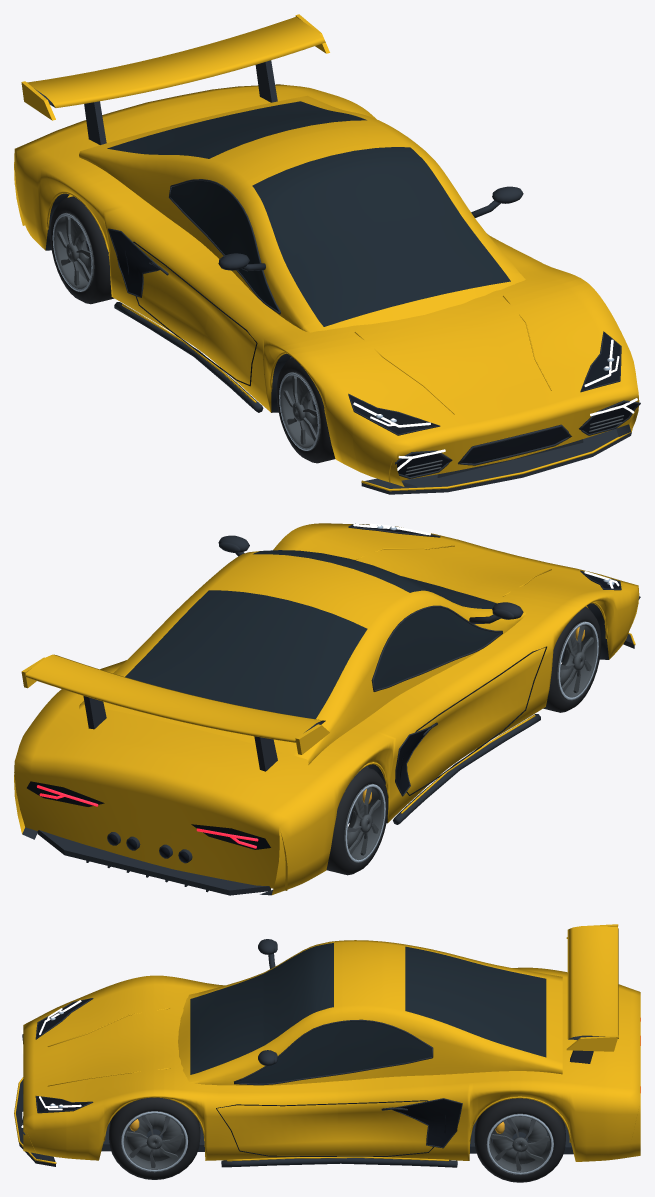
The model's file is Lamborghini.glb.
3 views of the same model, one above another, from view 1: azimuth 30°, elevation 25°; view 2: azimuth 150°, elevation 25°; view 3: azimuth 270°, elevation 25° (orthographic). The views are drawn at different scales.
Visible parts, largest first — view 1: Lamborghini_Body, Wheel_Rear_L, Wheel_Front_L; view 2: Lamborghini_Body, Wheel_Rear_L, Wheel_Front_L; view 3: Lamborghini_Body, Wheel_Rear_R, Wheel_Front_R.
Boxes of the visible parts, x1,y1,x2,y2 form: Lamborghini_Body: [14, 14, 640, 494]; Wheel_Rear_L: [50, 196, 114, 304]; Wheel_Front_L: [276, 357, 335, 463]; Lamborghini_Body: [14, 523, 640, 895]; Wheel_Rear_L: [326, 767, 388, 875]; Wheel_Front_L: [543, 606, 601, 712]; Lamborghini_Body: [14, 924, 640, 1167]; Wheel_Rear_R: [474, 1098, 565, 1182]; Wheel_Front_R: [109, 1097, 200, 1179].
Size of the model in its own units: 2.13 by 1.3 by 4.58.
